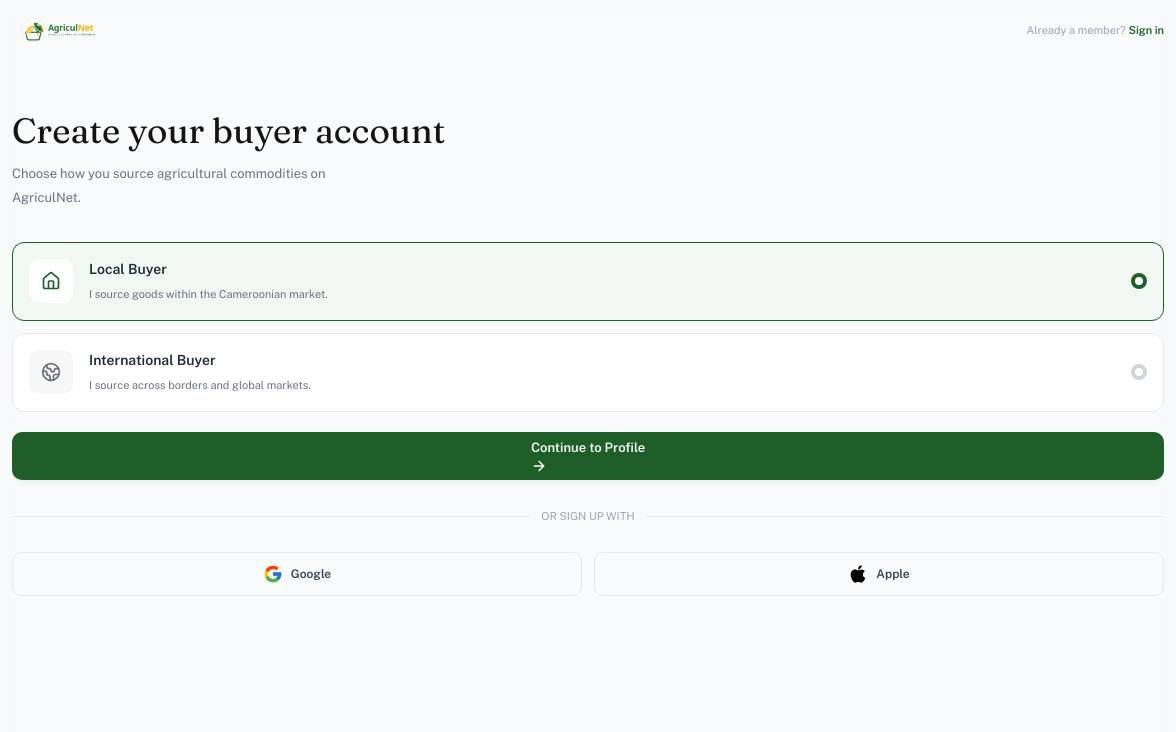
Scenario: buyer registration stages › keeps local social signup on selection and opens the local profile form
The image size is (1176, 732).
Expected: the button "Google" is shown, [12,552,582,596]
Expected: the button "Apple" is shown, [594,552,1164,596]
Click the button "Continue to Profile".
click(588, 456)  # box [12,432,1164,480]
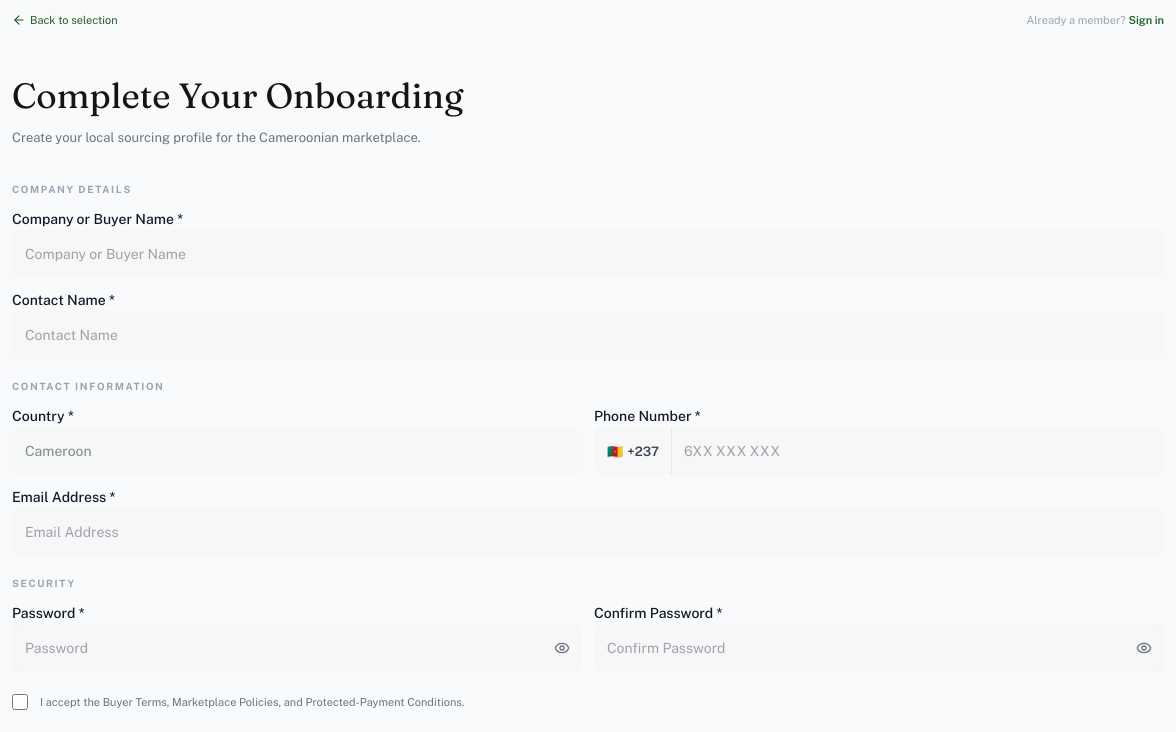
Now the heading "Complete Your Onboarding" is shown, box [12,74,464,116]
Now the field showing "Cameroon" is disabled, box [12,427,582,475]
